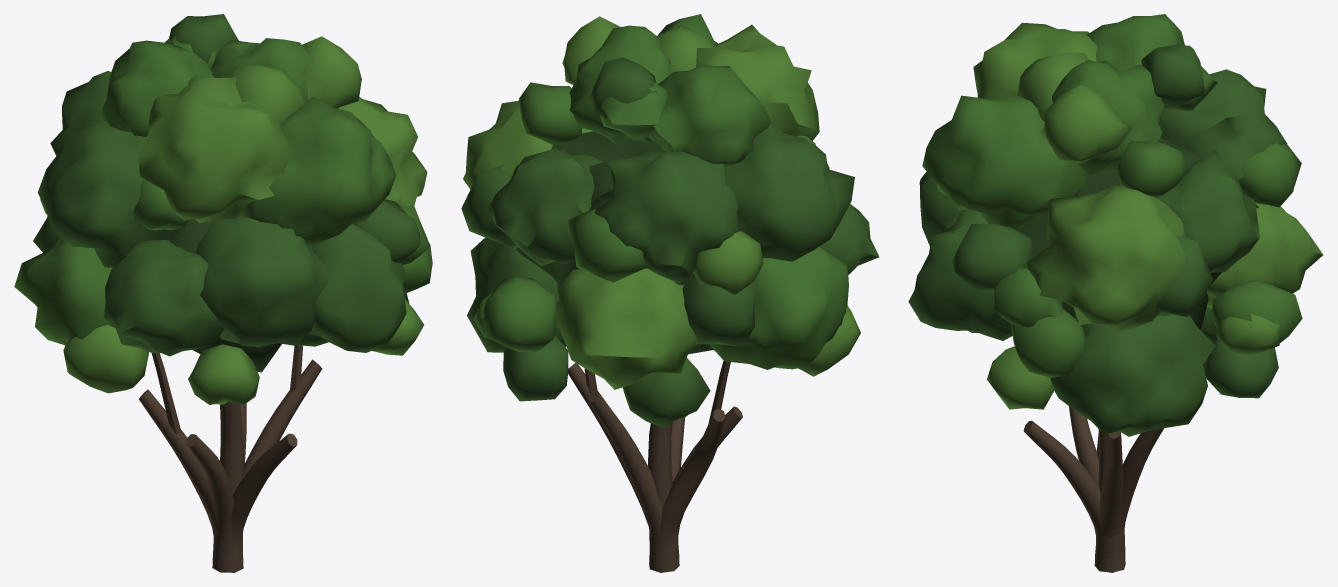
Rendered from crown_broadleaf.glb.
The picture shows the model from 3 angles, left to right: view 1: azimuth 30°, elevation 25°; view 2: azimuth 150°, elevation 25°; view 3: azimuth 270°, elevation 25°; orthographic projection.
Visible parts, largest first — view 1: Crown_Foliage, Crown_Branches; view 2: Crown_Foliage, Crown_Branches; view 3: Crown_Foliage, Crown_Branches.
Part boxes in pixels (x1=…): Crown_Foliage: x1=14, y1=14, x2=432, y2=404; Crown_Branches: x1=139, y1=345, x2=322, y2=572; Crown_Foliage: x1=461, y1=14, x2=879, y2=427; Crown_Branches: x1=568, y1=360, x2=742, y2=572; Crown_Foliage: x1=908, y1=14, x2=1323, y2=436; Crown_Branches: x1=1023, y1=406, x2=1163, y2=572.
Bounding box in the file's own units: 0.75 × 1 × 0.7201.
